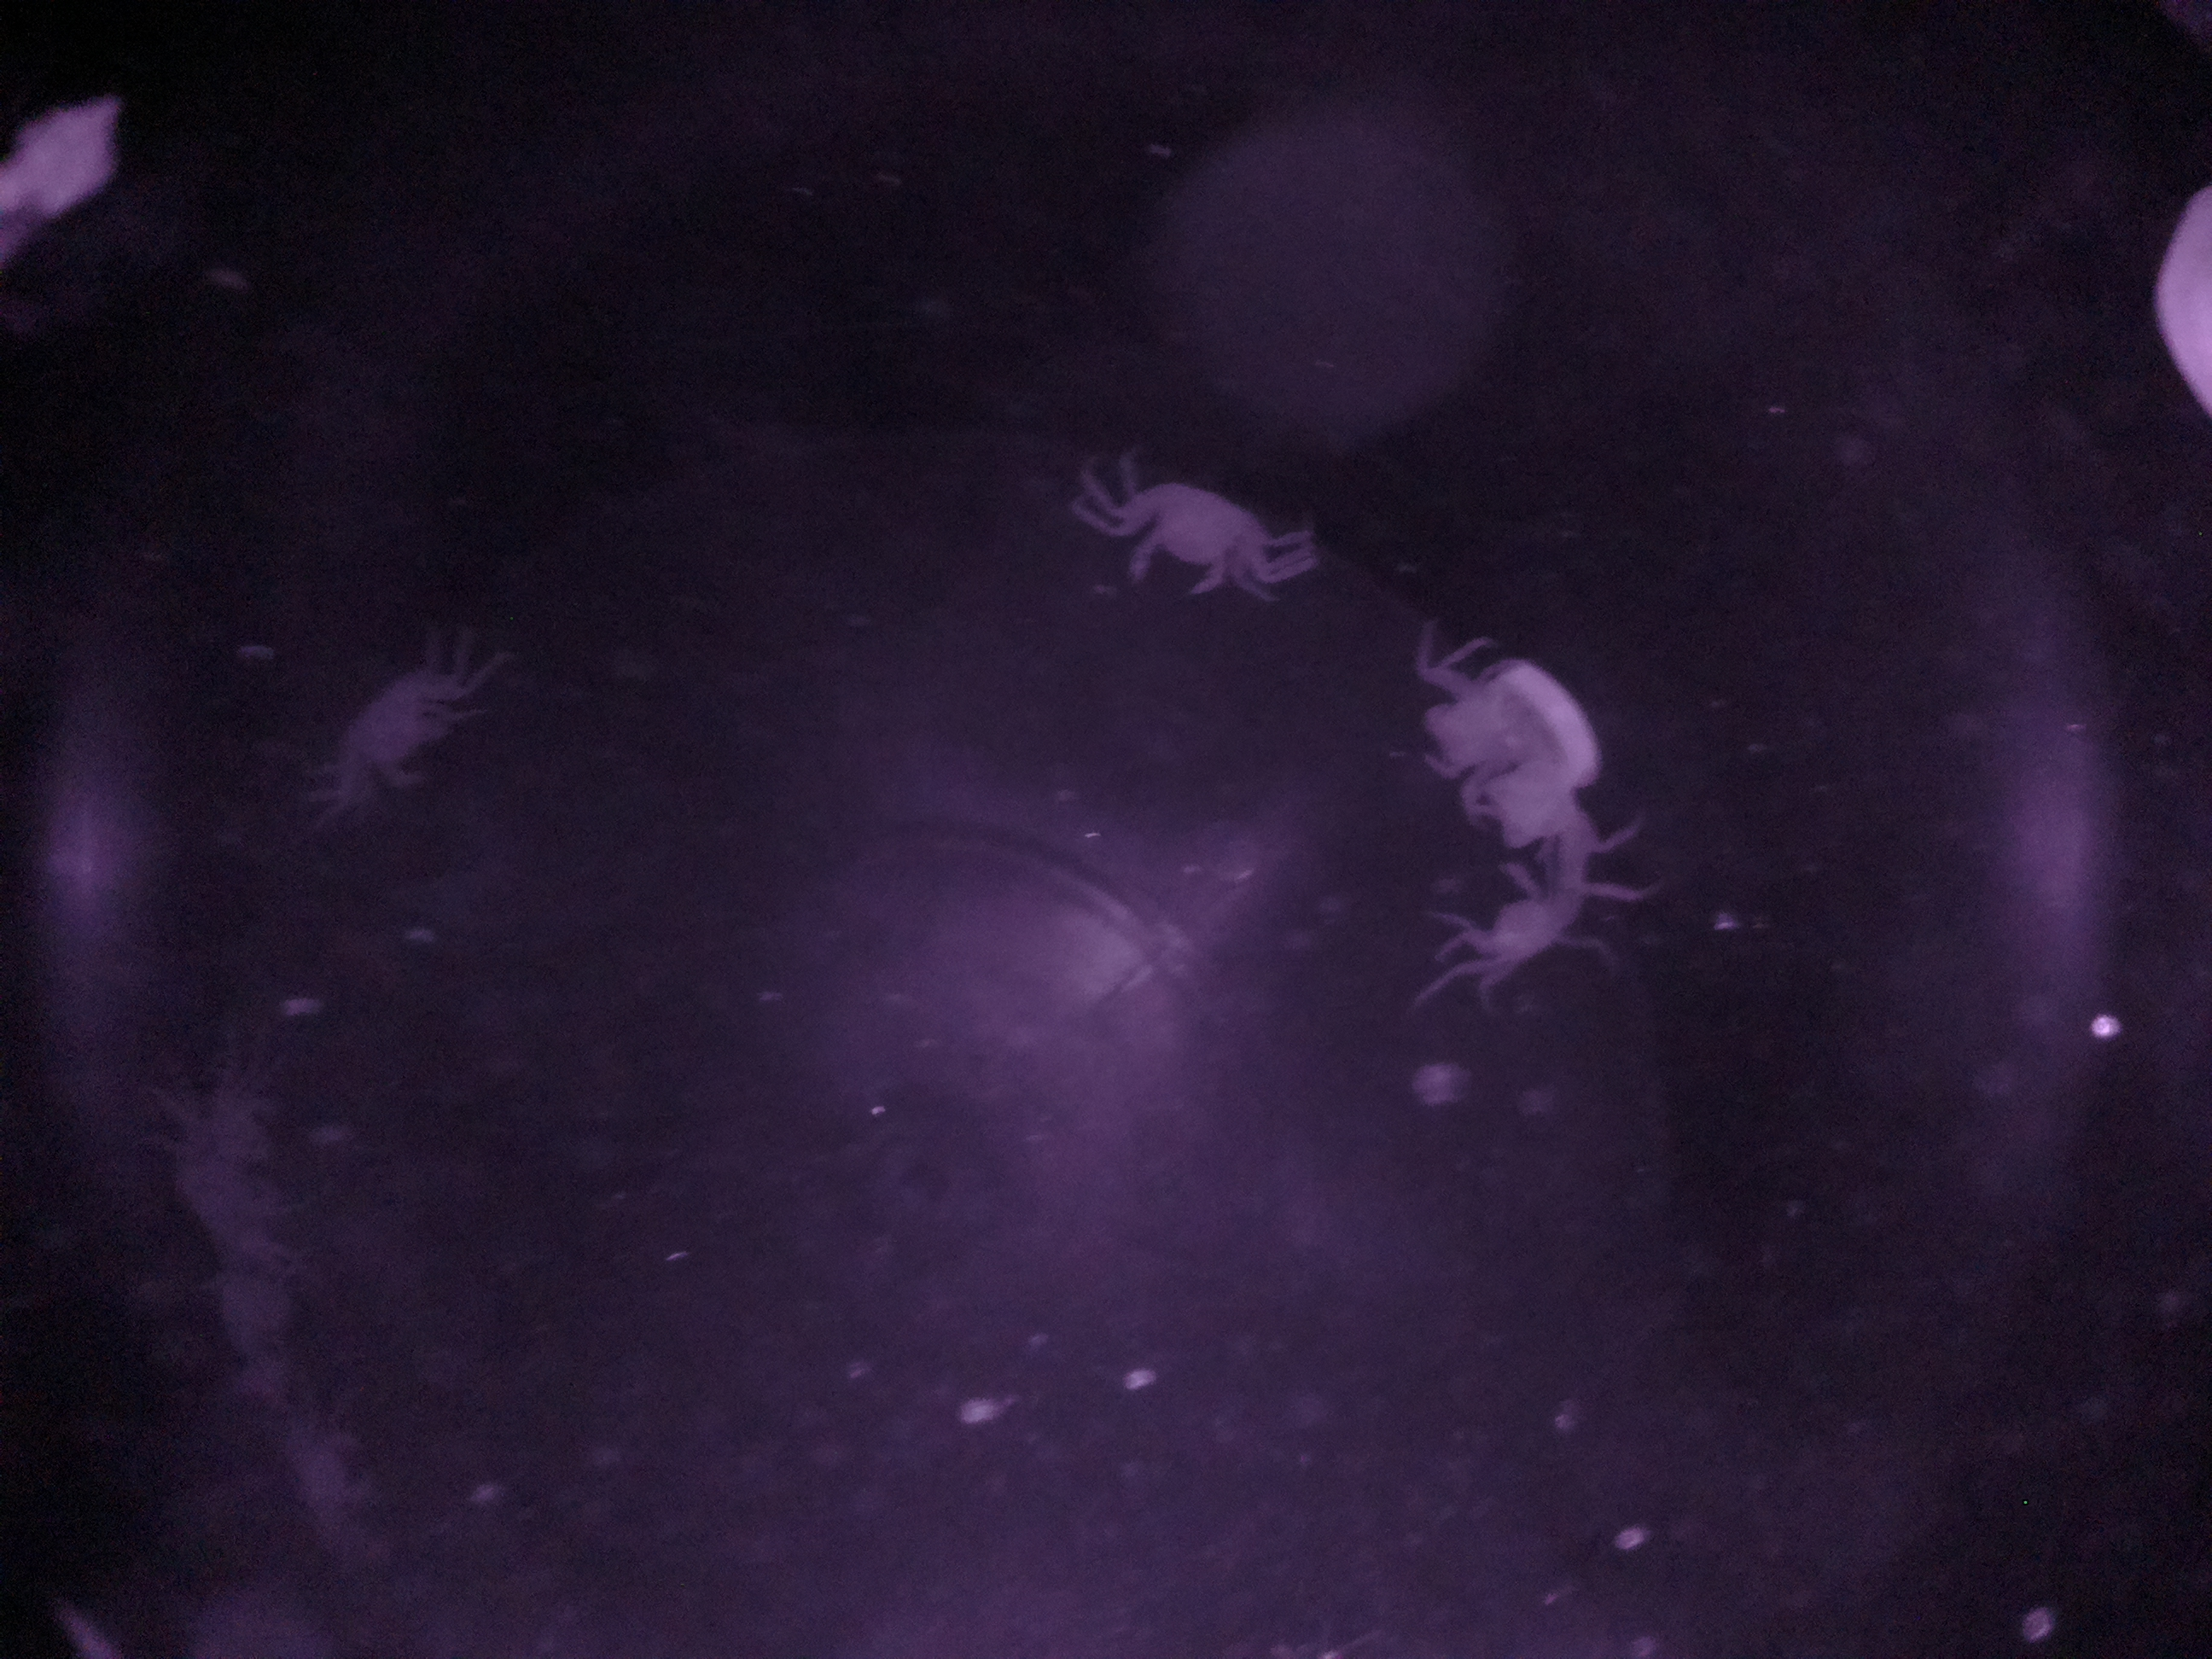Crab: (1395, 835, 1606, 1011), (1085, 464, 1303, 613)
